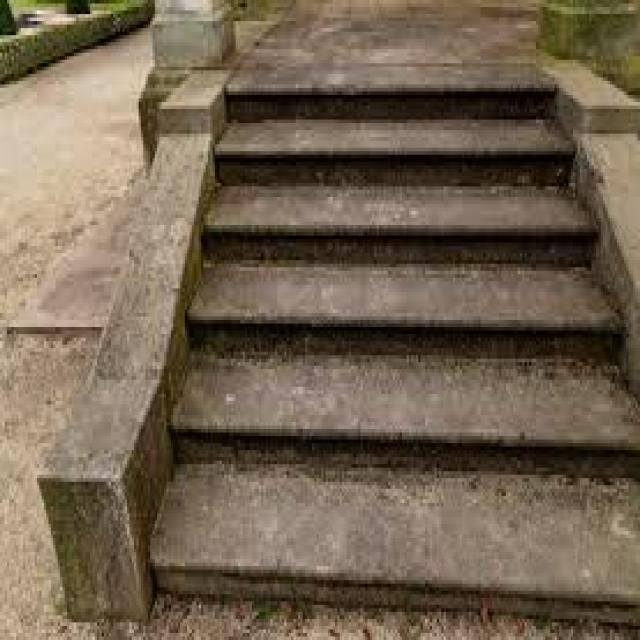stairs: (20, 0, 637, 636)
